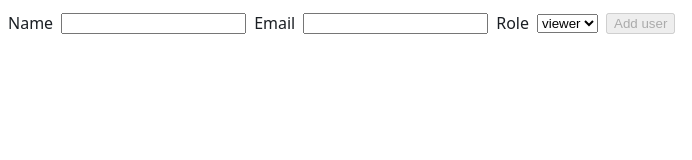
Test: <AddUserForm> › disables submit until name + valid email are present
Expected: the button "Add user" is disabled, [606,12,675,34]
Type "Margaret" into the field labelled "Name". click: (154, 23)
box: [61,12,246,34]
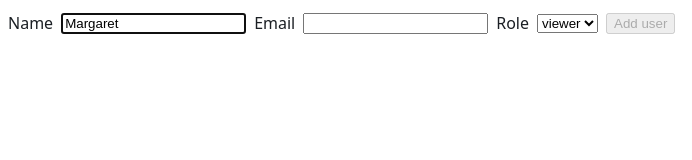
Type "not-an-email" into the field labelled "Email". click: (396, 23)
box: [303,12,488,34]
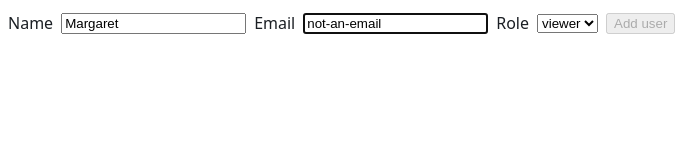
Expected: the button "Add user" is disabled, [606,12,675,34]
Replace the text in the field labelled "Email" with "maggie@acme.io". click: (396, 23)
box: [303,12,488,34]
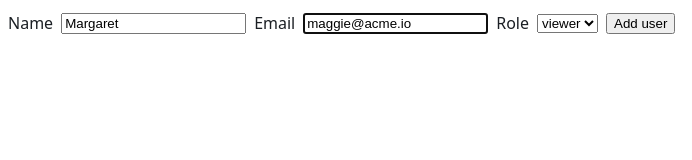
Expected: the button "Add user" is enabled, [606,12,675,34]
